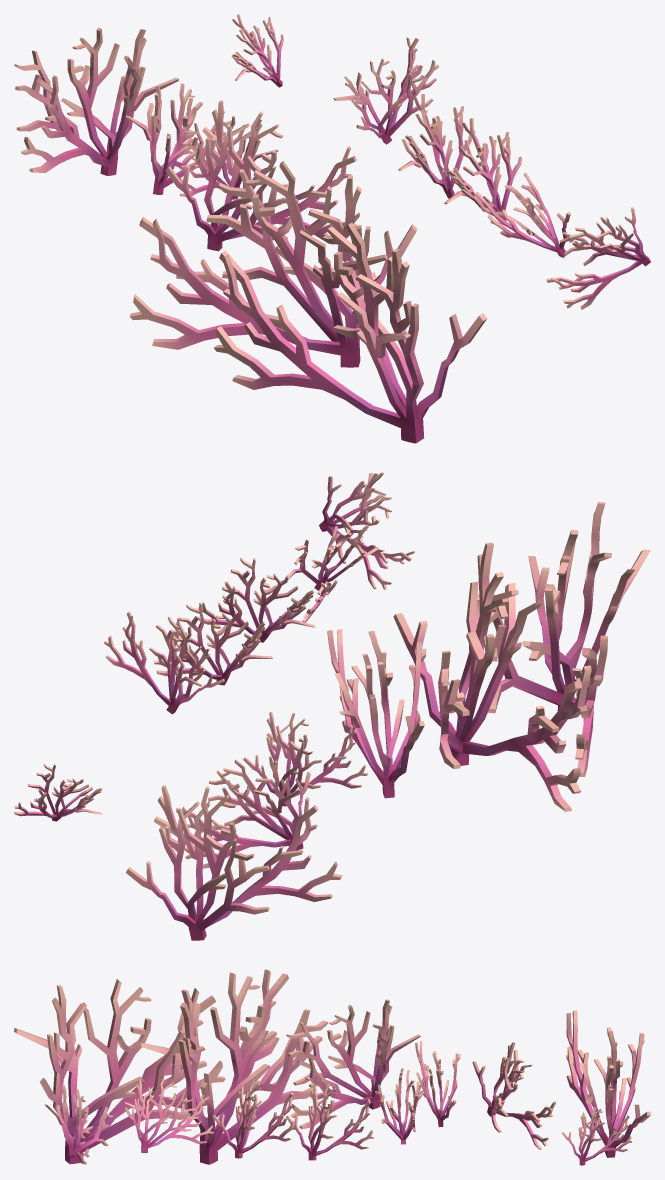
Rendered from stageObject_9.fbx.
The picture shows the model from 3 angles, top to bottom: view 1: azimuth 30°, elevation 25°; view 2: azimuth 150°, elevation 25°; view 3: azimuth 270°, elevation 25°; orthographic projection. The views are drawn at different scales.
Visible parts, largest first — view 1: sango6-1; view 2: sango6-1; view 3: sango6-1.
Part boxes in pixels (x1,y1,x2,y2): sango6-1: [14, 14, 650, 443]; sango6-1: [14, 472, 650, 940]; sango6-1: [14, 969, 650, 1165].
Size of the model in its own units: 403 by 215 by 705.
Materials: 1 (1 with a texture image).
